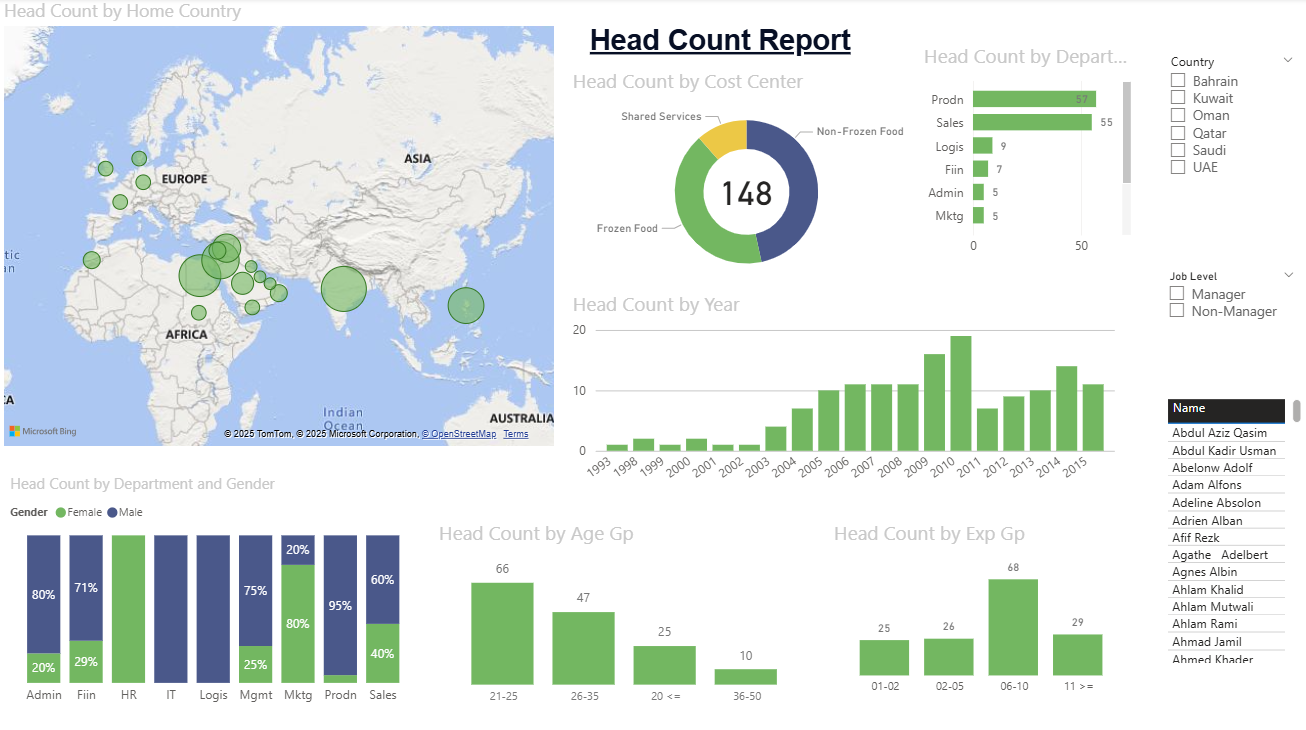

Layout of this report page (visuals, bound fields, positions):
{"tool":"powerbi","page":{"name":"HR","canvas":[1280,720],"ordinal":4},"visuals":[{"type":"map","fields":{"Category":["Employee.Home Country","Employee.Location"],"Size":["Employee.Head Count"]},"box":[0,0,548,443],"z":0},{"type":"textbox","box":[536.8,20.8,337.5,47.7],"z":1000},{"type":"donutChart","fields":{"Category":["Employee.Cost Center"],"Y":["Employee.Head Count"]},"box":[556,69,350,218],"z":2000},{"type":"card","fields":{"Values":["Employee.Head Count"]},"box":[668.9,146.7,123.5,83.2],"z":3000},{"type":"clusteredBarChart","fields":{"Category":["Employee.Department"],"Y":["Employee.Head Count"]},"box":[900,44,212,217],"z":4000},{"type":"clusteredColumnChart","fields":{"Category":["Employee.Hire Date.Variation.Date Hierarchy.Year","Employee.Hire Date.Variation.Date Hierarchy.Quarter","Employee.Hire Date.Variation.Date Hierarchy.Month","Employee.Hire Date.Variation.Date Hierarchy.Day"],"Y":["Employee.Head Count"]},"box":[556,286,540,205],"z":5000},{"type":"slicer","fields":{"Values":["Geography.Country"]},"box":[1134,49,145,191],"z":6000},{"type":"slicer","fields":{"Values":["Employee.Job Level"]},"box":[1132,261,147,79],"z":7000},{"type":"tableEx","fields":{"Values":["Employee.Name"]},"box":[1137,388,142,267],"z":8000},{"type":"hundredPercentStackedColumnChart","fields":{"Category":["Employee.Department"],"Y":["Employee.Head Count"],"Series":["Employee.Gender"]},"box":[6,465,408,235],"z":9000},{"type":"clusteredColumnChart","fields":{"Category":["Employee.Age Gp"],"Y":["Employee.Head Count"]},"box":[426,510,375,190],"z":10000},{"type":"clusteredColumnChart","fields":{"Category":["Employee.Exp Gp"],"Y":["Employee.Head Count"]},"box":[812,510,300,181],"z":11000}]}

Visuals, with their boxes in screenshot pixels (x1, y1, x2, y2), scaled from the page's 1280x720 canvas onto the 1306x730 screenshot:
map - Employee.Home Country x Employee.Location: locate(0, 0, 559, 449)
textbox: locate(548, 21, 892, 69)
donutChart - Employee.Cost Center x Employee.Head Count: locate(567, 70, 924, 291)
card - Employee.Head Count: locate(682, 149, 808, 233)
clusteredBarChart - Employee.Department x Employee.Head Count: locate(918, 45, 1135, 265)
clusteredColumnChart - Employee.Hire Date.Variation.Date Hierarchy.Year x Employee.Hire Date.Variation.Date Hierarchy.Quarter: locate(567, 290, 1118, 498)
slicer - Geography.Country: locate(1157, 50, 1305, 243)
slicer - Employee.Job Level: locate(1155, 265, 1305, 345)
tableEx - Employee.Name: locate(1160, 393, 1305, 664)
hundredPercentStackedColumnChart - Employee.Department x Employee.Head Count: locate(6, 471, 422, 710)
clusteredColumnChart - Employee.Age Gp x Employee.Head Count: locate(435, 517, 817, 710)
clusteredColumnChart - Employee.Exp Gp x Employee.Head Count: locate(828, 517, 1135, 701)
